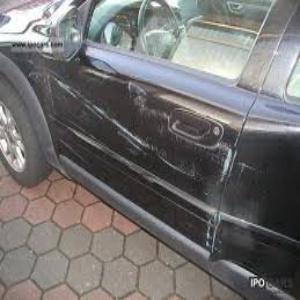door_scratch: (64, 80, 248, 205)
